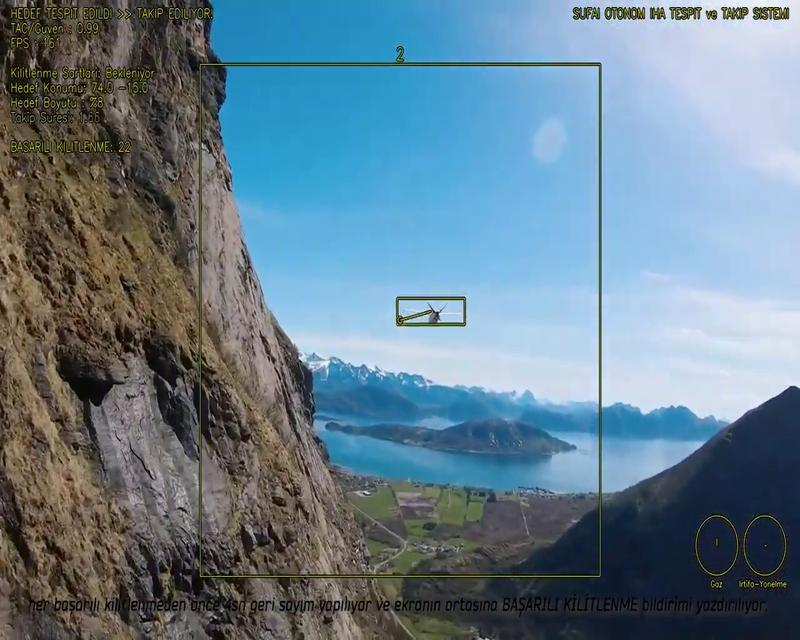UAV: (404, 302, 462, 324)
